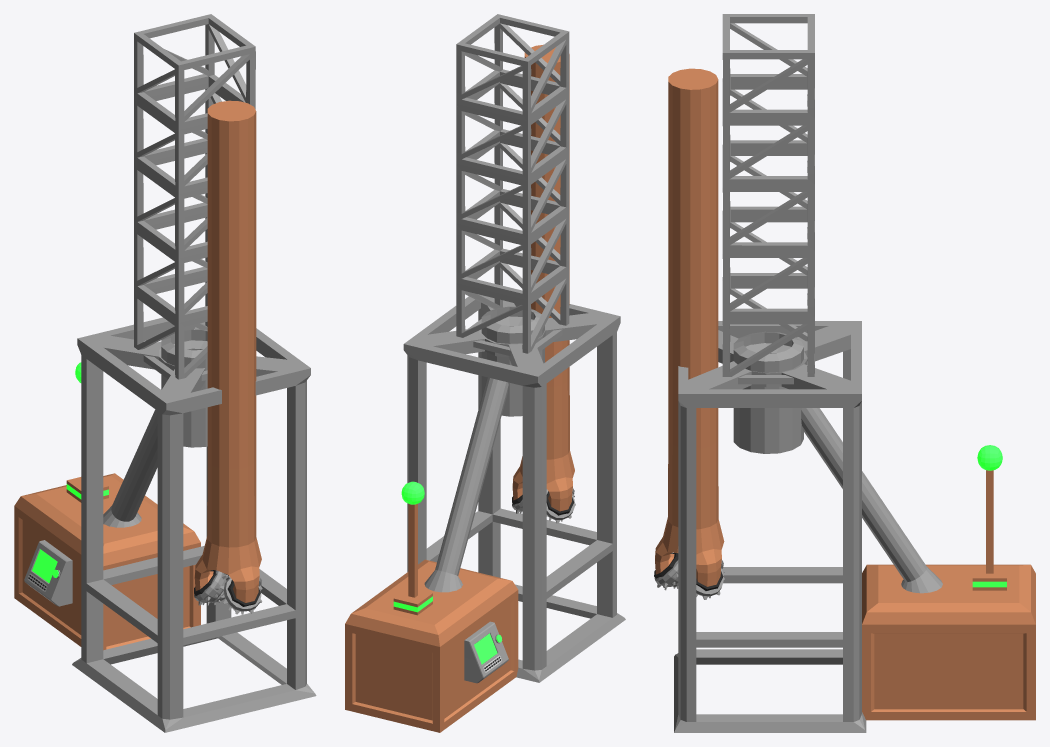
The model's file is foreusetestlundi2.glb.
The picture shows the model from 3 angles, left to right: view 1: azimuth 30°, elevation 25°; view 2: azimuth 150°, elevation 25°; view 3: azimuth 270°, elevation 25°; orthographic projection. The views are drawn at different scales.
Parts seen in each view (by area): view 1: Cube.009, Plane.002, Cube.010, Cube, Plane.001, Screen, Cube.003; view 2: Cube.009, Cube.010, Cube, Plane.001, Plane.002, Screen; view 3: Cube.009, Cube, Plane.002, Cube.010, Plane.001.
Part boxes in pixels (x1,y1,x2,y2): Cube.009: (72, 317, 316, 732); Plane.002: (194, 100, 261, 606); Cube.010: (134, 14, 255, 380); Cube: (14, 473, 200, 650); Plane.001: (103, 329, 207, 527); Screen: (24, 540, 72, 606); Cube.003: (194, 570, 228, 605); Cube.009: (403, 294, 625, 682); Cube.010: (456, 14, 569, 356); Cube: (345, 503, 518, 732); Plane.001: (424, 306, 544, 592); Plane.002: (512, 44, 574, 515); Screen: (464, 621, 508, 683); Cube.009: (674, 321, 866, 732); Cube: (862, 470, 1035, 720); Plane.002: (654, 68, 724, 590); Cube.010: (722, 14, 814, 384); Plane.001: (733, 331, 942, 593).
Bounding box in the file's own units: 2.56 × 10.35 × 5.41.
